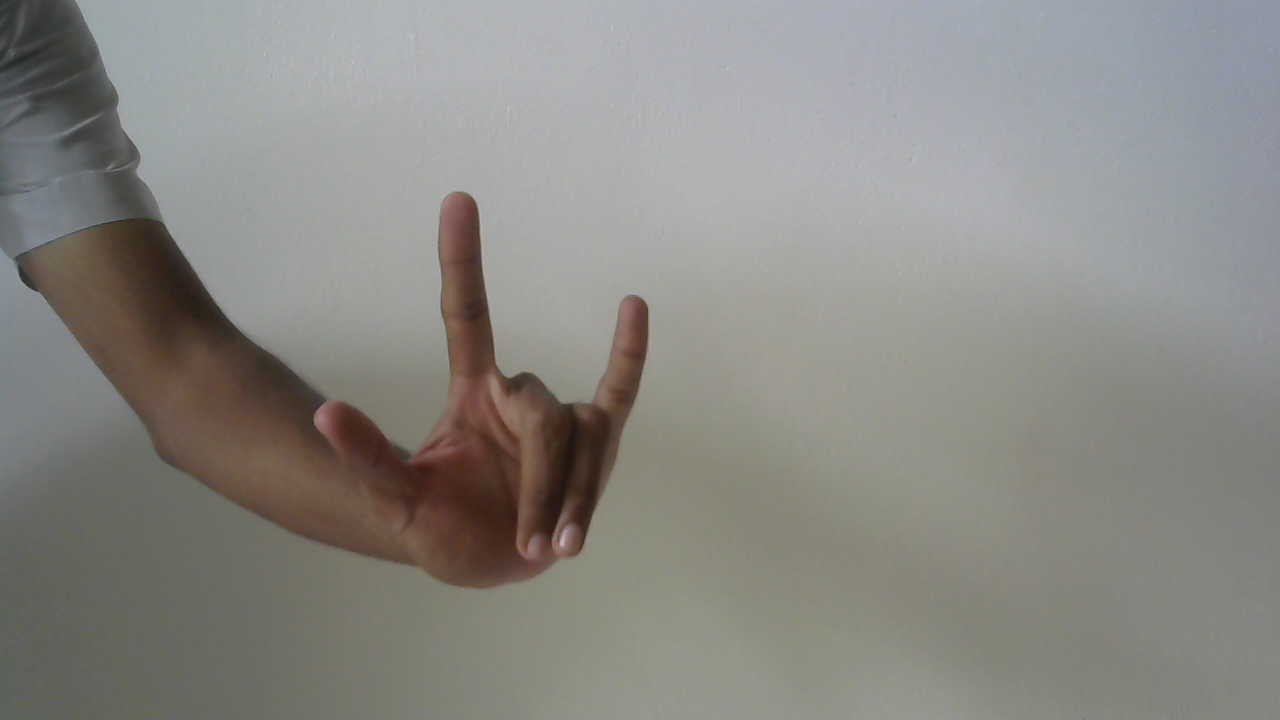iloveyou: (305, 177, 665, 608)
